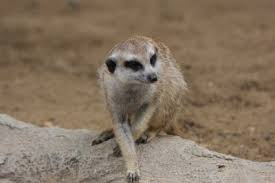meerkat: (91, 26, 186, 171)
